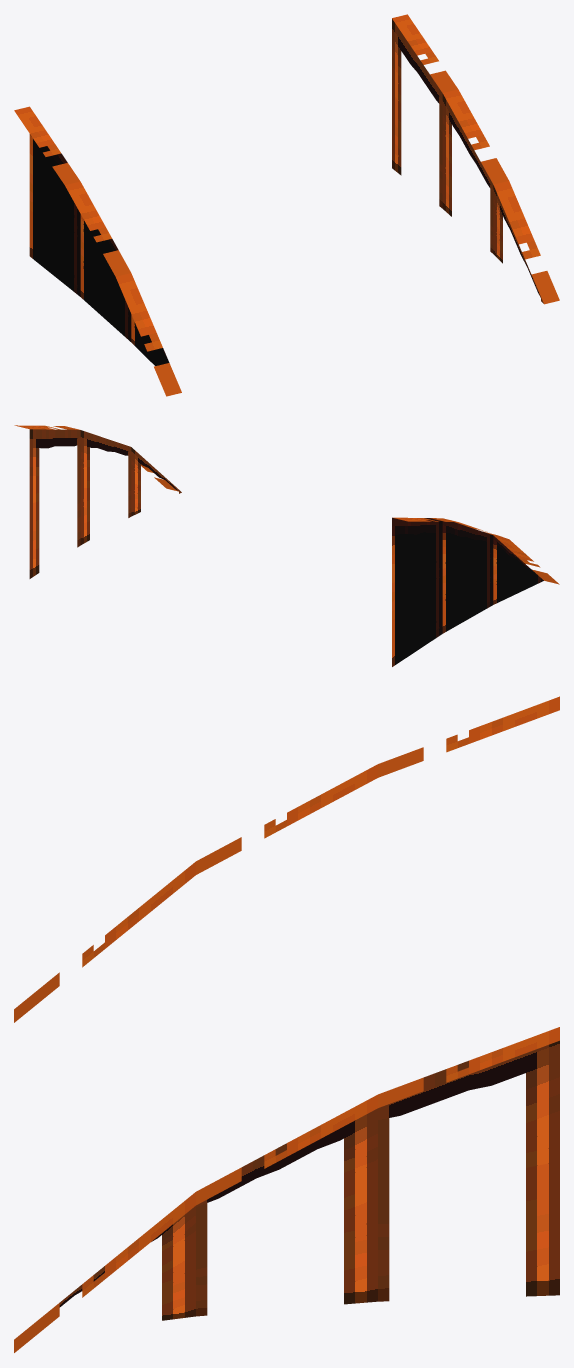
3 renders of one model, top to bottom at view 1: azimuth 30°, elevation 25°; view 2: azimuth 150°, elevation 25°; view 3: azimuth 270°, elevation 25°, orthographic. The views are drawn at different scales.
Visible parts, largest first — view 1: obj-al2-32; view 2: obj-al2-32; view 3: obj-al2-32.
Boxes of the visible parts, x1,y1,x2,y2 form: obj-al2-32: [14, 14, 559, 396]; obj-al2-32: [14, 425, 559, 666]; obj-al2-32: [14, 696, 559, 1352].
Size of the model in its own units: 2.73 by 1.16 by 1.83.
Materials: 3 (3 with a texture image).
